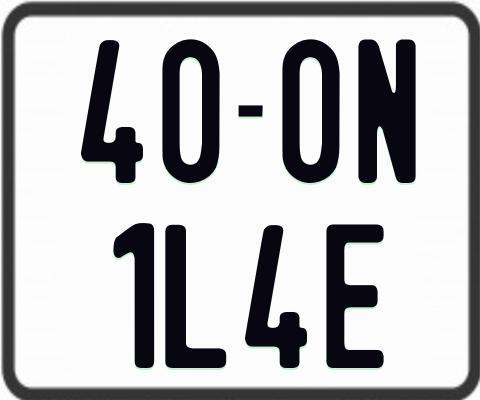0: (159, 36, 221, 184), (282, 36, 345, 180)
1: (111, 223, 155, 368)
4: (244, 223, 310, 370), (79, 39, 146, 183)
E: (325, 224, 386, 373)
L: (163, 225, 226, 374)
N: (357, 37, 415, 184)
